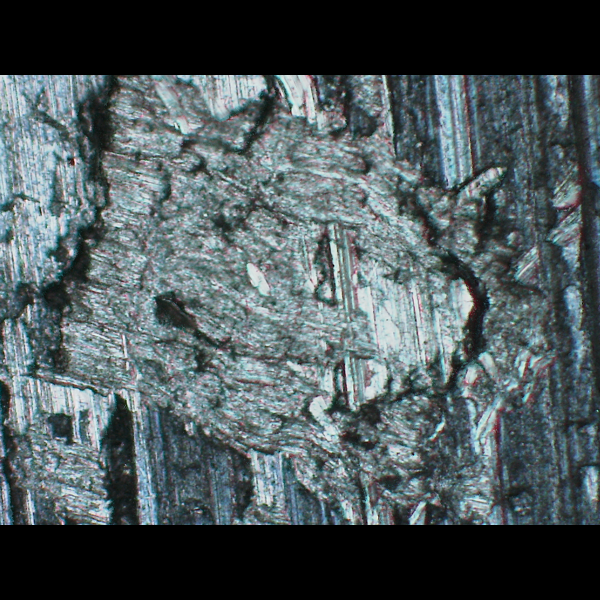d: (2, 75, 592, 519)
